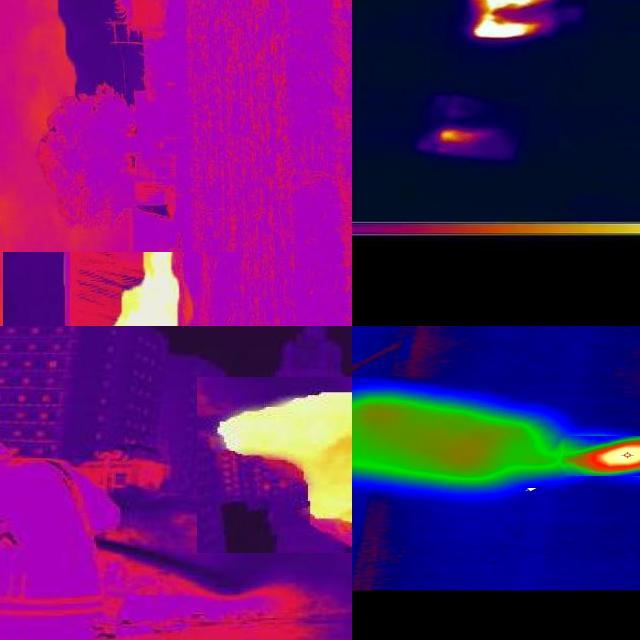fire: (216, 386, 355, 545), (107, 244, 187, 330), (470, 1, 552, 40), (562, 437, 640, 477), (436, 129, 486, 145)
